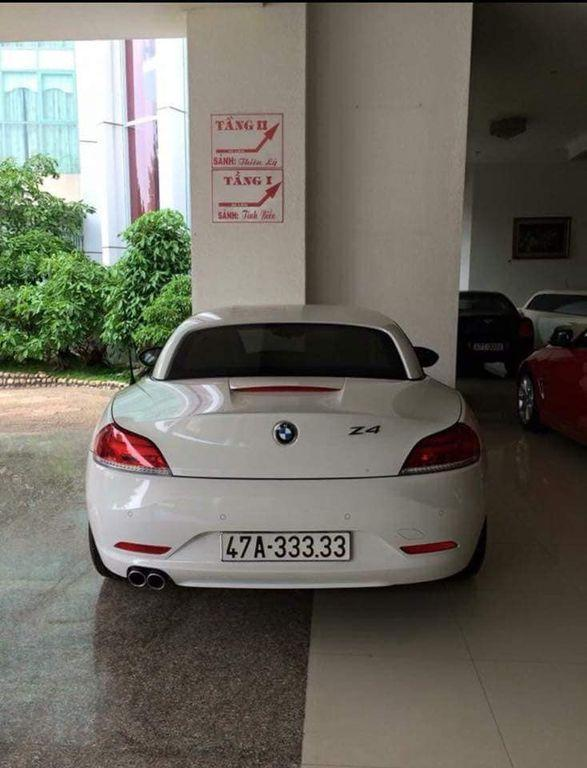numplate: (215, 527, 354, 562)
